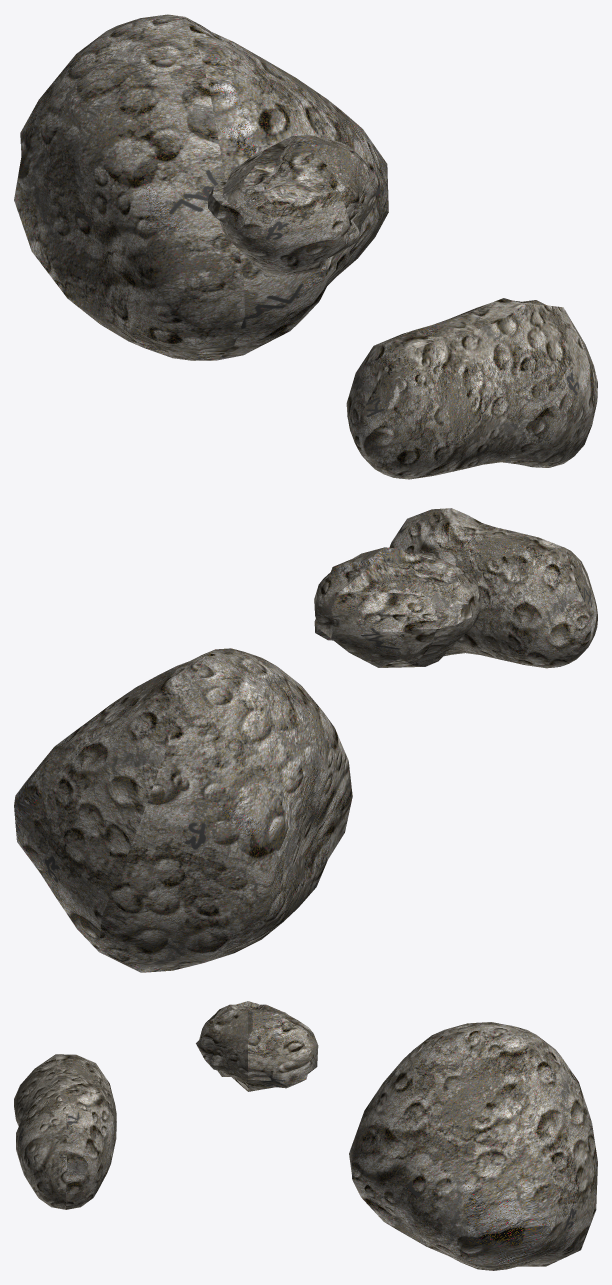
The model's file is Asteroid3.FBX.
3 renders of one model, top to bottom at view 1: azimuth 30°, elevation 25°; view 2: azimuth 150°, elevation 25°; view 3: azimuth 270°, elevation 25°, orthographic. The views are drawn at different scales.
Visible parts, largest first — view 1: Sphere001, Capsule001, Box002; view 2: Sphere001, Capsule001, Box002; view 3: Sphere001, Capsule001, Box002.
Boxes of the visible parts, x1,y1,x2,y2 form: Sphere001: [14, 14, 388, 360]; Capsule001: [346, 298, 597, 479]; Box002: [208, 135, 377, 277]; Sphere001: [14, 648, 352, 972]; Capsule001: [389, 508, 597, 668]; Box002: [314, 547, 481, 667]; Sphere001: [349, 1022, 597, 1270]; Capsule001: [14, 1054, 116, 1209]; Box002: [196, 1001, 318, 1091].
Size of the model in its own units: 241 by 540 by 246.
Materials: 1 (1 with a texture image).
